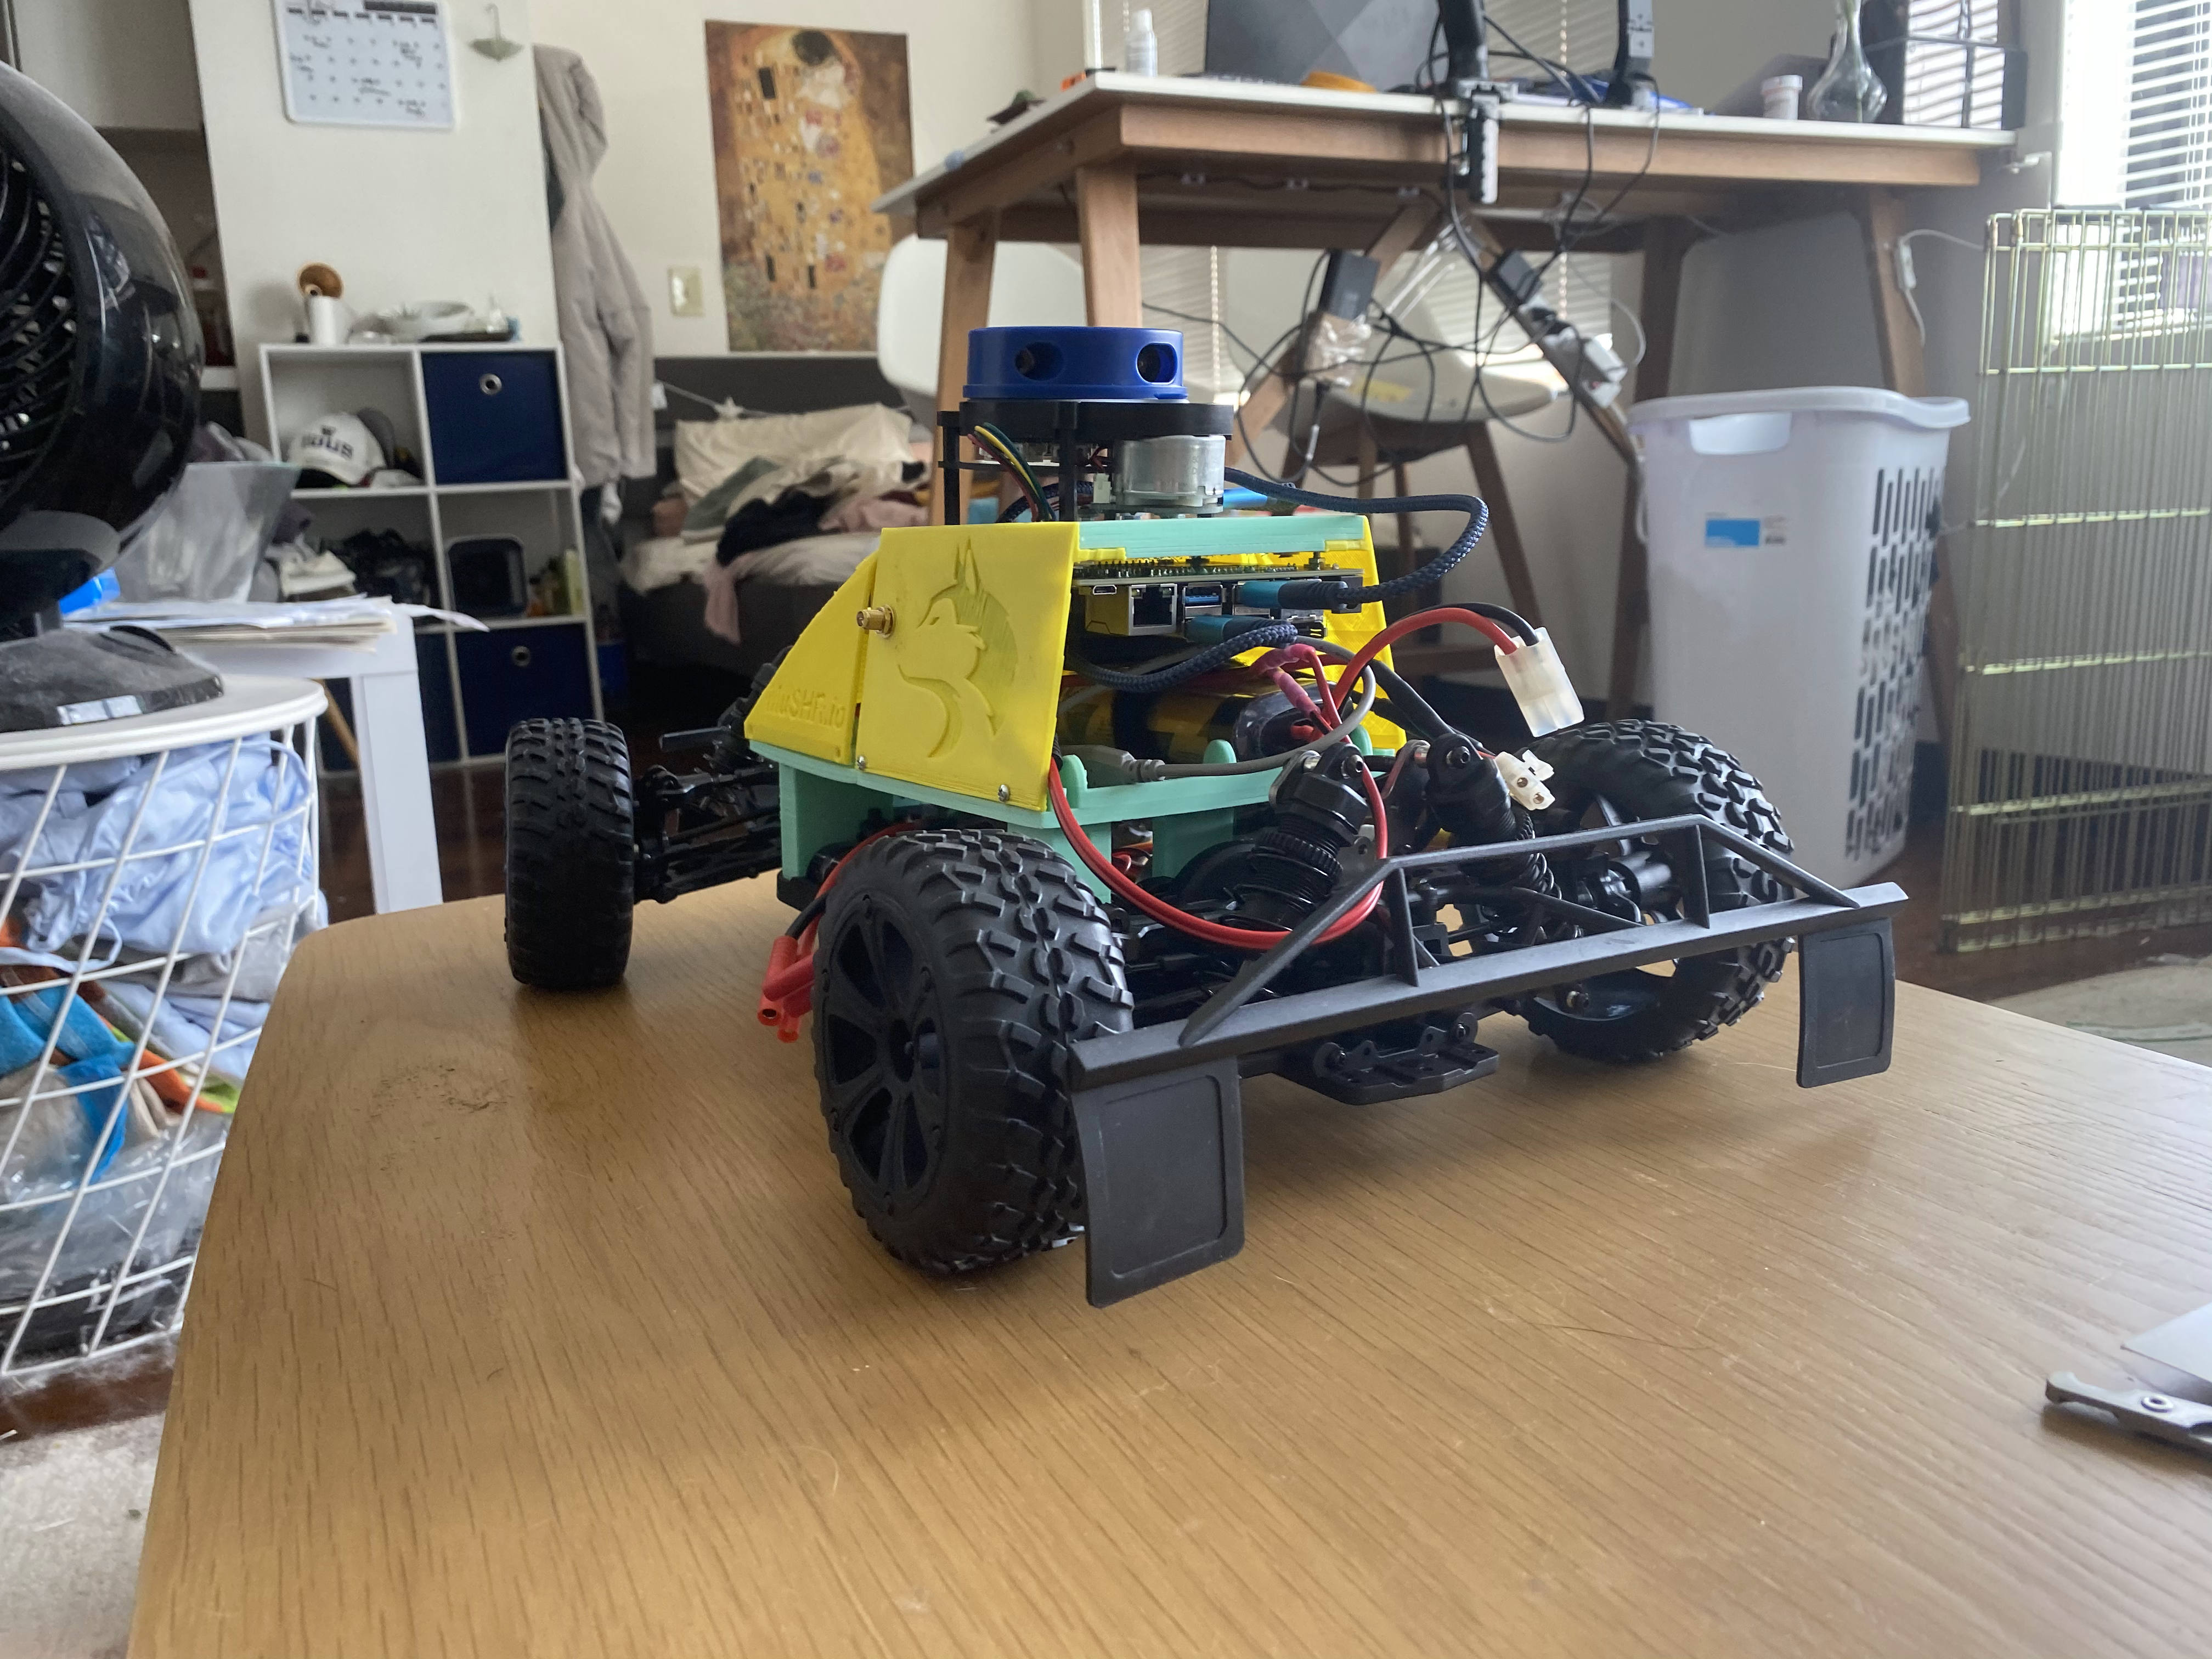mushr_car: (500, 314, 1919, 1317)
